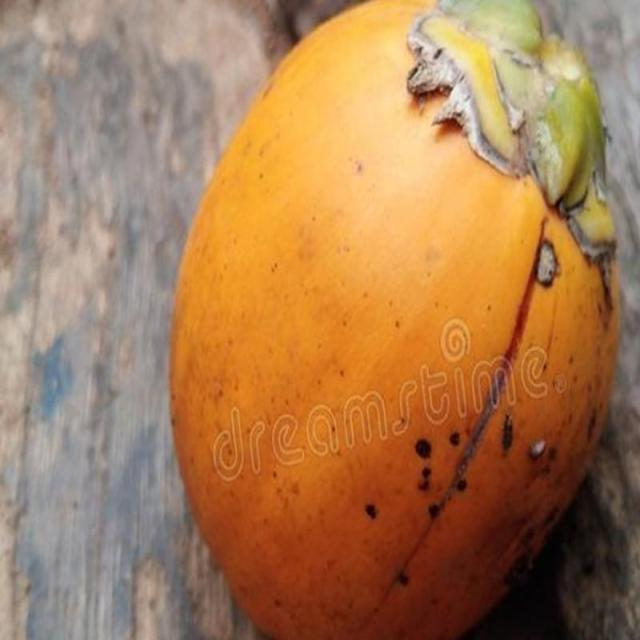good: (168, 0, 639, 639)
